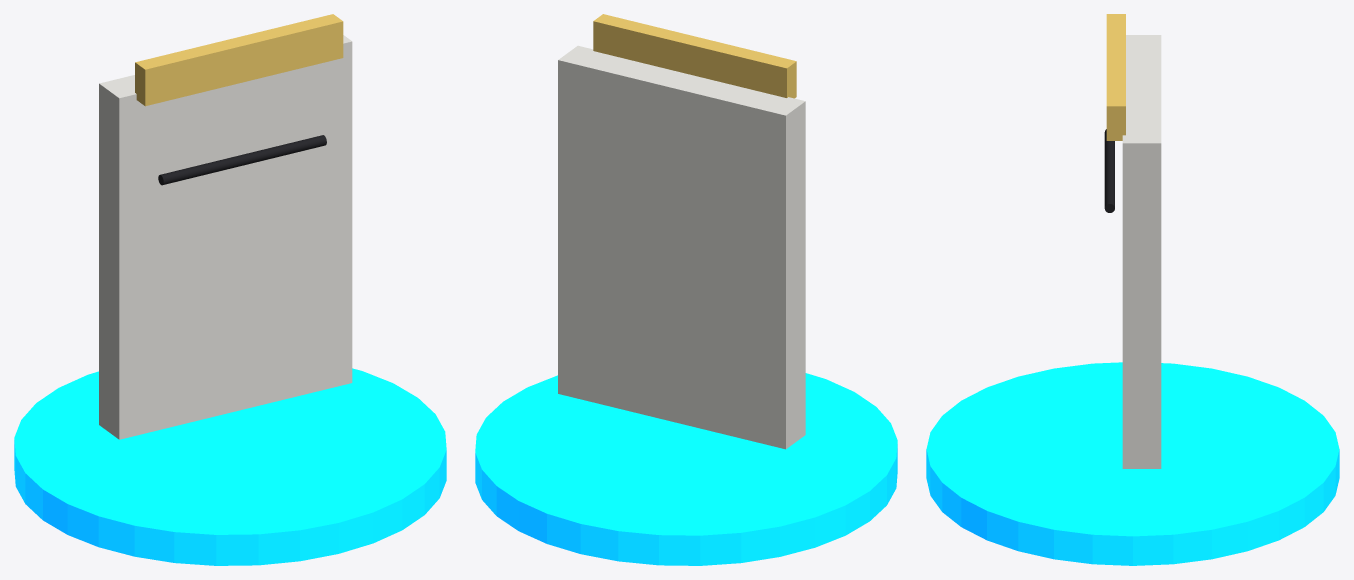
File: news_notepad.glb
The picture shows the model from 3 angles, left to right: view 1: azimuth 30°, elevation 25°; view 2: azimuth 150°, elevation 25°; view 3: azimuth 270°, elevation 25°; orthographic projection. The views are drawn at different scales.
Parts seen in each view (by area): view 1: 09_07_Popular_News_Notepad_part_01, 09_07_Popular_News_Notepad_ROOT_base, 09_07_Popular_News_Notepad_part_02, 09_07_Popular_News_Notepad_part_03; view 2: 09_07_Popular_News_Notepad_part_01, 09_07_Popular_News_Notepad_ROOT_base, 09_07_Popular_News_Notepad_part_02; view 3: 09_07_Popular_News_Notepad_ROOT_base, 09_07_Popular_News_Notepad_part_01, 09_07_Popular_News_Notepad_part_02, 09_07_Popular_News_Notepad_part_03.
Boxes of the visible parts, x1,y1,x2,y2 form: 09_07_Popular_News_Notepad_part_01: (99,35,352,439); 09_07_Popular_News_Notepad_ROOT_base: (14,368,446,565); 09_07_Popular_News_Notepad_part_02: (135,14,343,106); 09_07_Popular_News_Notepad_part_03: (158,135,326,185); 09_07_Popular_News_Notepad_part_01: (558,45,805,449); 09_07_Popular_News_Notepad_ROOT_base: (475,373,897,565); 09_07_Popular_News_Notepad_part_02: (593,14,796,98); 09_07_Popular_News_Notepad_ROOT_base: (926,362,1339,565); 09_07_Popular_News_Notepad_part_01: (1122,35,1161,468); 09_07_Popular_News_Notepad_part_02: (1106,14,1125,140); 09_07_Popular_News_Notepad_part_03: (1104,129,1114,212).
Bounding box in the file's own units: 0.76 × 0.85 × 0.76.
